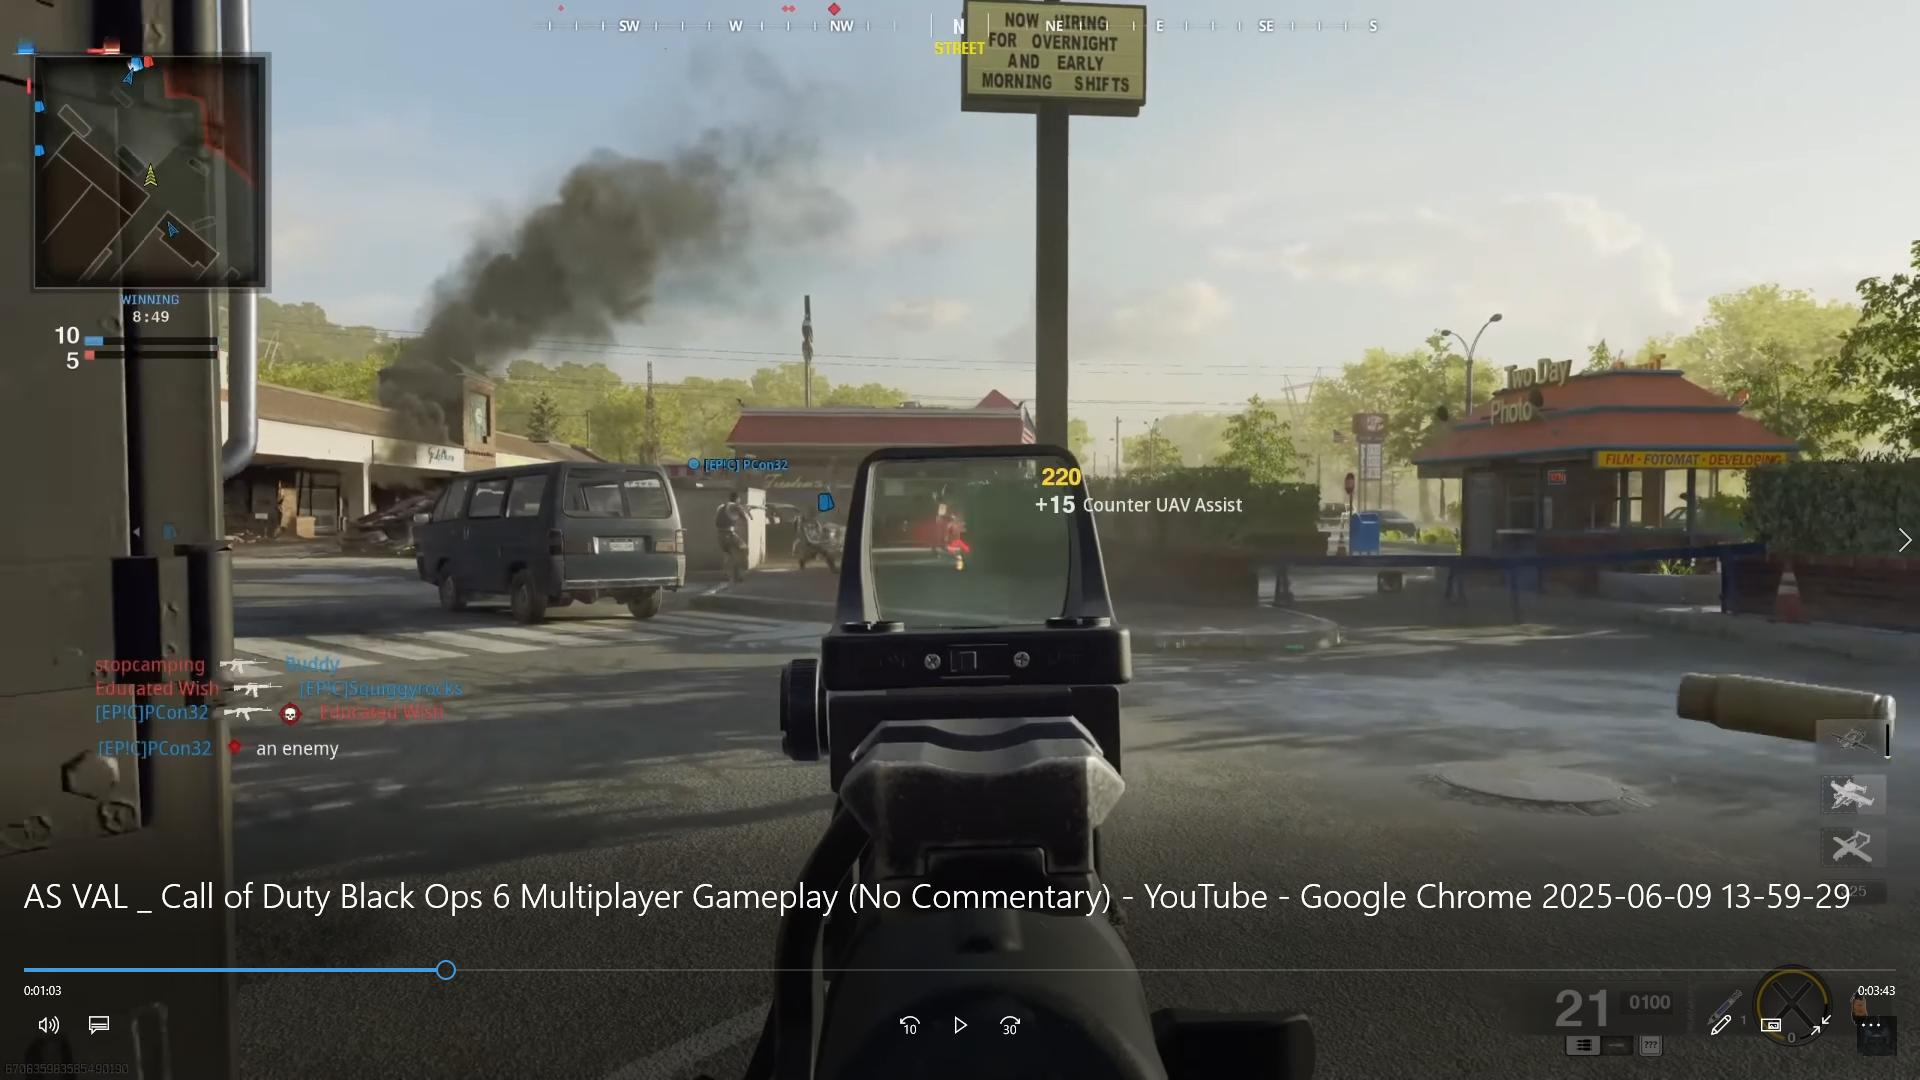Enemy: (708, 485, 762, 571)
